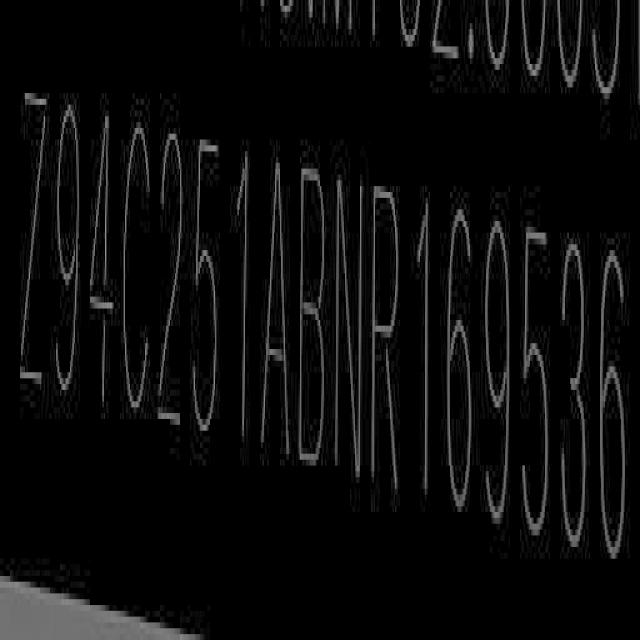1: (231, 134, 252, 450), (416, 193, 433, 504)
2: (157, 120, 183, 436)
3: (560, 231, 590, 561)
4: (89, 102, 117, 412)
5: (522, 216, 551, 545), (193, 122, 222, 442)
6: (445, 198, 476, 524), (600, 238, 630, 569)
9: (50, 93, 80, 407), (484, 213, 513, 532)
A: (262, 155, 292, 465)
B: (299, 159, 330, 472)
C: (122, 114, 154, 426)
N: (337, 169, 366, 482)
R: (374, 178, 404, 494)
Z: (20, 85, 44, 402)
